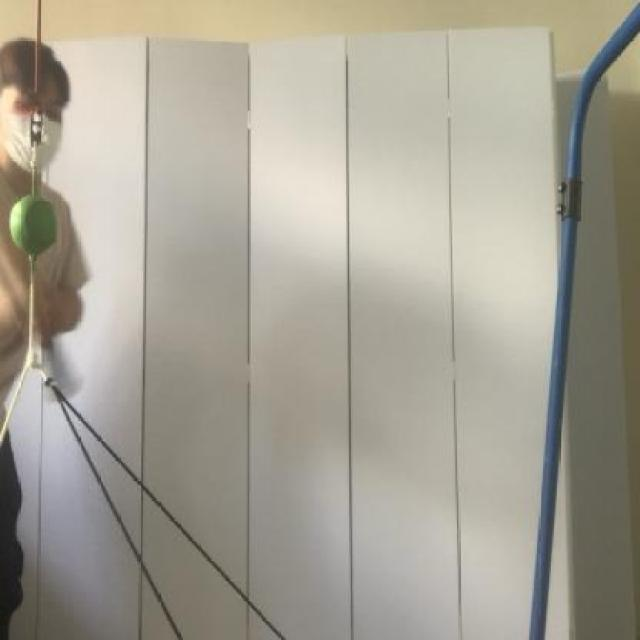baseball: (12, 188, 58, 255)
